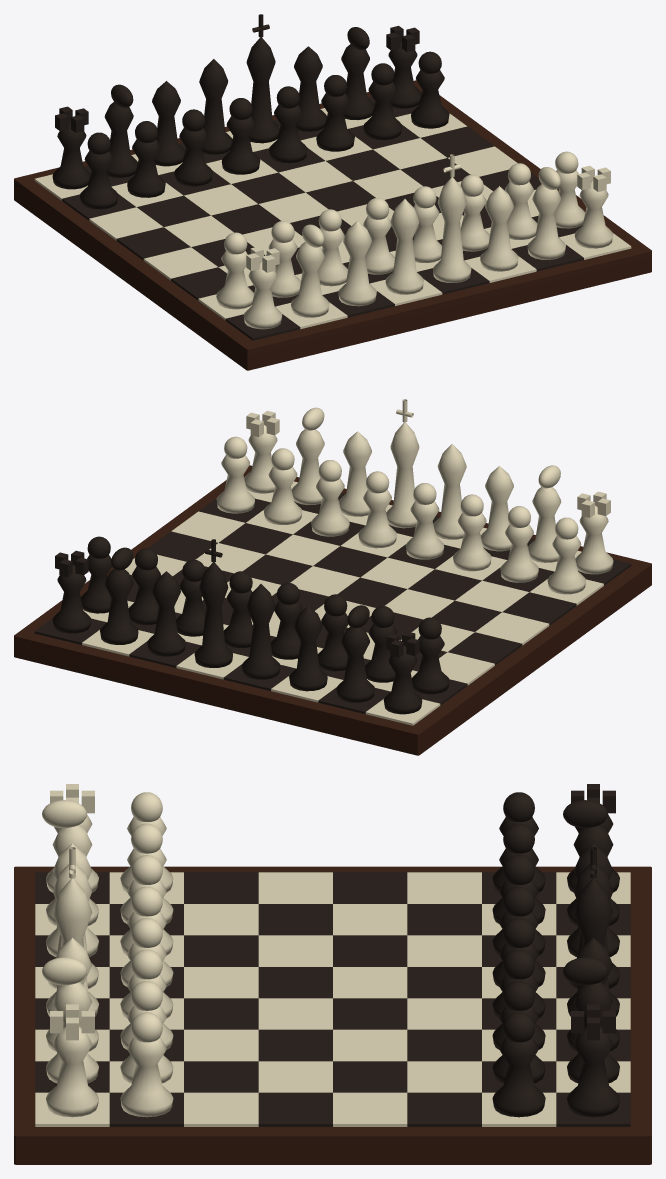
File: Chess_Set.fbx
The picture shows the model from 3 angles, top to bottom: view 1: azimuth 30°, elevation 25°; view 2: azimuth 150°, elevation 25°; view 3: azimuth 270°, elevation 25°; orthographic projection. The views are drawn at different scales.
Visible parts, largest first — view 1: Chess board.001, Chess piece.036, Chess piece.052, Chess piece.035, Chess piece.034, Chess piece.037, Chess piece.051, Chess piece.033, Chess piece.038, Chess piece.050, Chess piece.053, Chess piece.049 (+58 smaller); view 2: Chess board.001, Chess piece.052, Chess piece.036, Chess piece.051, Chess piece.050, Chess piece.053, Chess piece.035, Chess piece.049, Chess piece.054, Chess piece.034, Chess piece.037, Chess piece.033 (+58 smaller); view 3: Chess board.001, Chess piece.039, Chess piece.055, Chess piece.047, Chess piece.063, Chess square.122, Chess square.125, Chess square.123, Chess square.124, Chess square.106, Chess square.109, Chess square.107 (+103 smaller).
Boxes of the visible parts, left/top/right/bottom form: Chess board.001: left=14, top=80, right=651, bottom=370; Chess piece.036: left=433, top=177, right=471, bottom=282; Chess piece.052: left=246, top=37, right=279, bottom=143; Chess piece.035: left=385, top=199, right=423, bottom=294; Chess piece.034: left=338, top=221, right=376, bottom=306; Chess piece.037: left=480, top=186, right=518, bottom=271; Chess piece.051: left=199, top=59, right=232, bottom=154; Chess piece.033: left=291, top=242, right=329, bottom=317; Chess piece.038: left=527, top=184, right=565, bottom=259; Chess piece.050: left=152, top=81, right=185, bottom=166; Chess piece.053: left=294, top=46, right=326, bottom=131; Chess piece.049: left=104, top=102, right=137, bottom=177; Chess board.001: left=14, top=465, right=651, bottom=755; Chess piece.052: left=194, top=562, right=232, bottom=667; Chess piece.036: left=386, top=422, right=419, bottom=528; Chess piece.051: left=242, top=584, right=280, bottom=679; Chess piece.050: left=289, top=606, right=327, bottom=691; Chess piece.053: left=147, top=571, right=185, bottom=656; Chess piece.035: left=433, top=444, right=466, bottom=539; Chess piece.049: left=336, top=627, right=374, bottom=702; Chess piece.054: left=100, top=569, right=138, bottom=644; Chess piece.034: left=480, top=466, right=513, bottom=551; Chess piece.037: left=339, top=431, right=371, bottom=516; Chess piece.033: left=528, top=487, right=561, bottom=562; Chess board.001: left=14, top=866, right=651, bottom=1164; Chess piece.039: left=46, top=1026, right=98, bottom=1117; Chess piece.055: left=567, top=1026, right=619, bottom=1117; Chess piece.047: left=120, top=1037, right=173, bottom=1117; Chess piece.063: left=492, top=1037, right=545, bottom=1117; Chess square.122: left=184, top=1092, right=258, bottom=1126; Chess square.125: left=407, top=1092, right=481, bottom=1126; Chess square.123: left=258, top=1092, right=332, bottom=1126; Chess square.124: left=333, top=1092, right=407, bottom=1126; Chess square.106: left=184, top=1029, right=258, bottom=1061; Chess square.109: left=407, top=1029, right=481, bottom=1061; Chess square.107: left=258, top=1029, right=332, bottom=1061.
Bounding box in the file's own units: 0.48 × 0.164 × 0.48.
